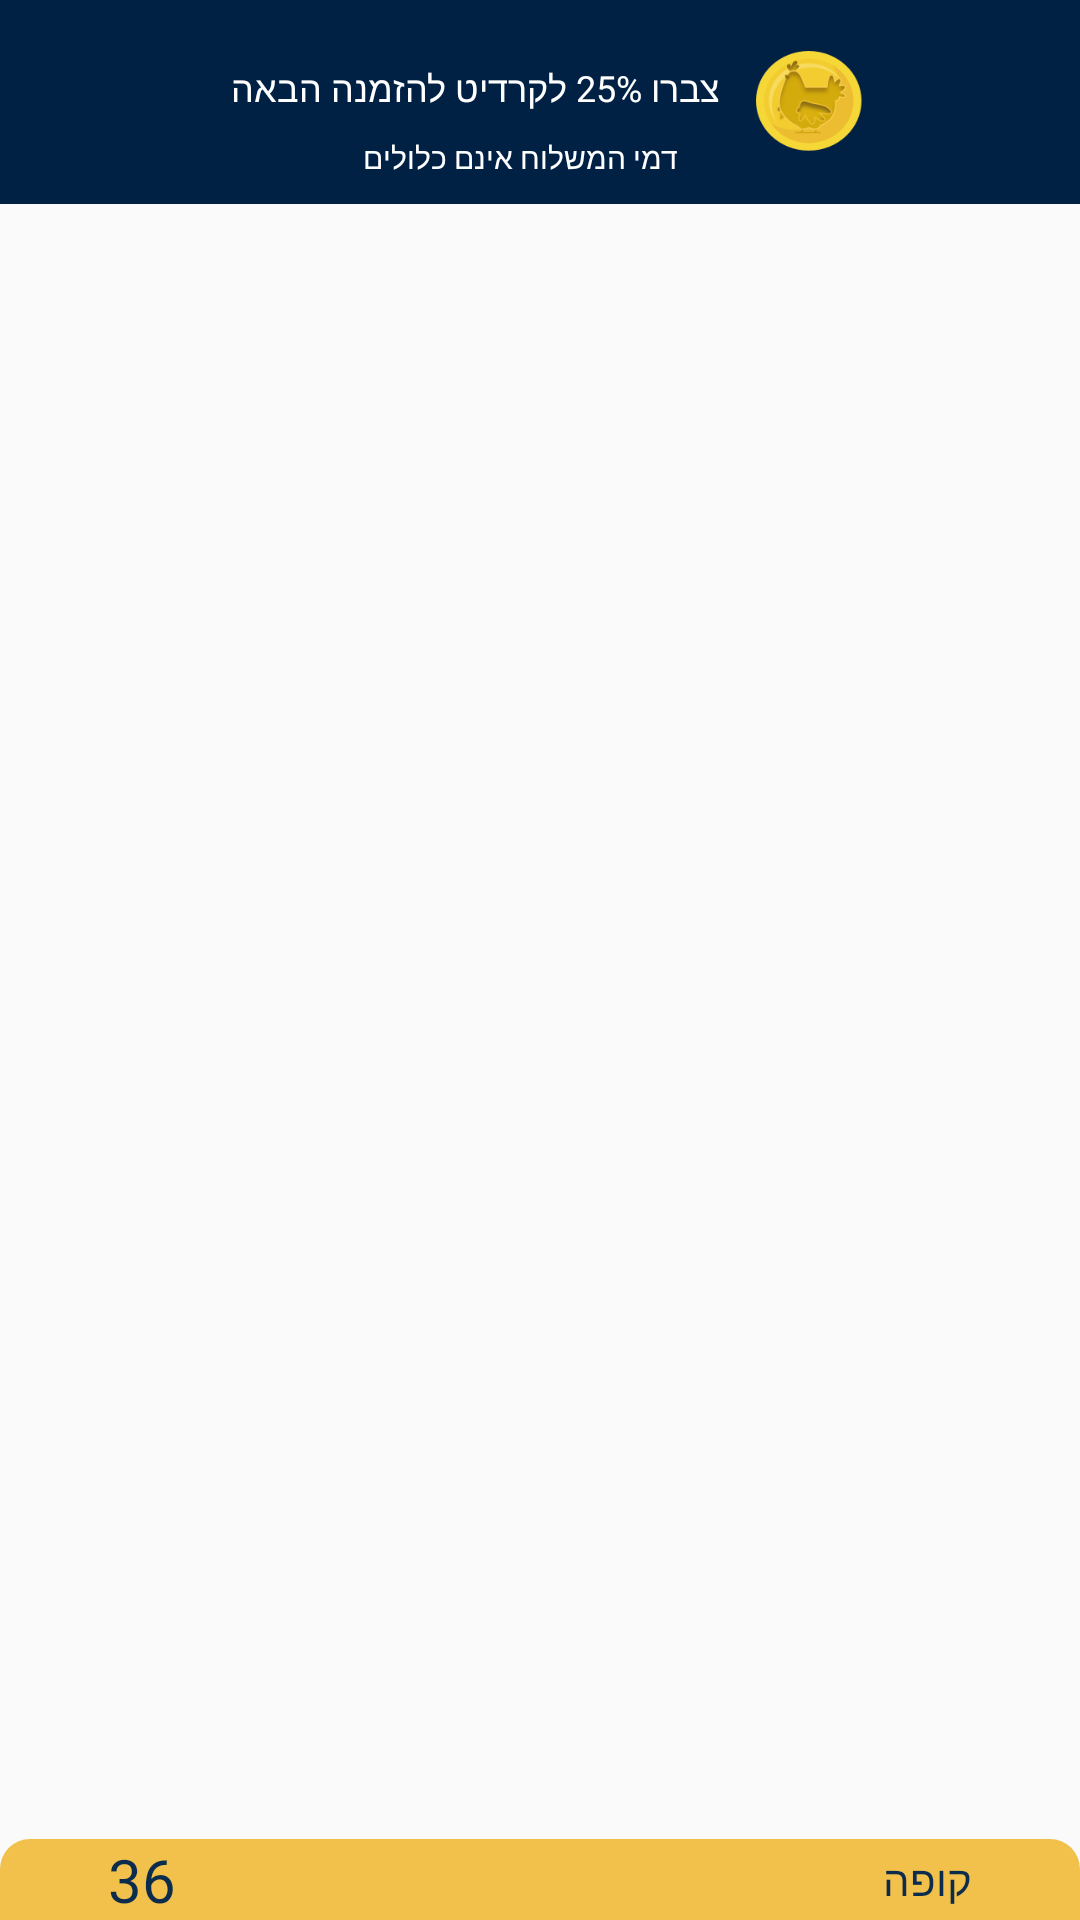

Named icons in this screenshot (1080 x 1920) and their centers, [x,y]:
virtual coin user: [809,101]
